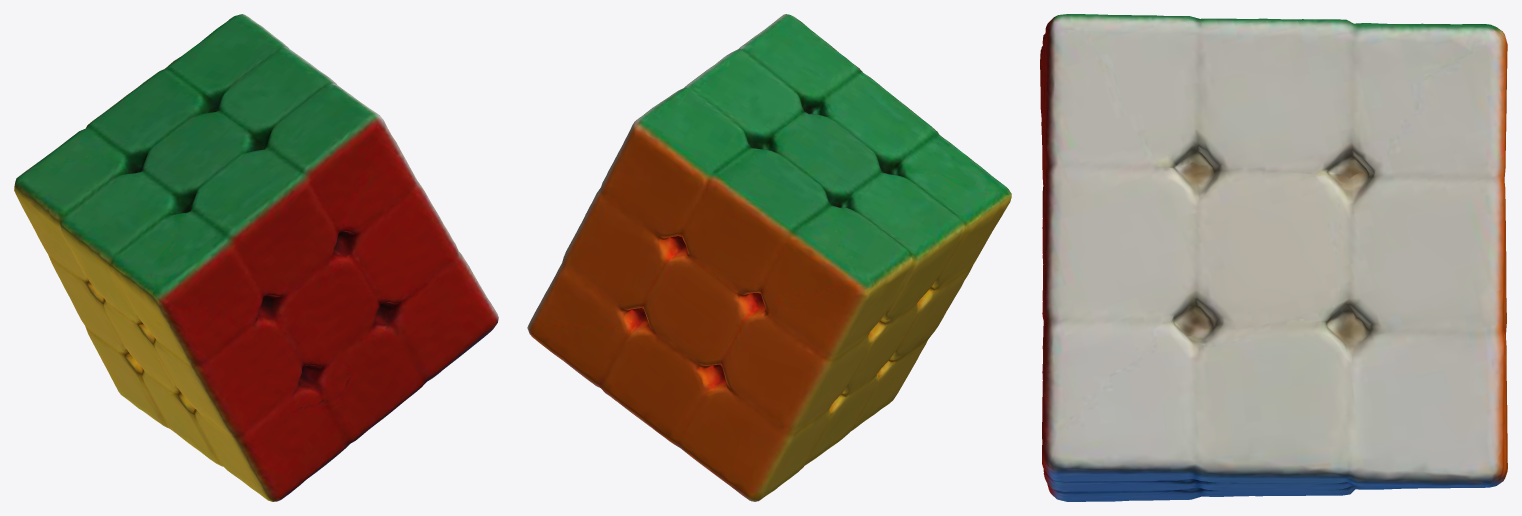
File: ddg-ycb_077_rubiks_cube.glb
3 views of the same model, side by side, from view 1: azimuth 30°, elevation 25°; view 2: azimuth 150°, elevation 25°; view 3: azimuth 270°, elevation 25° (orthographic). The views are drawn at different scales.
Visible parts, largest first — view 1: textured(Clone); view 2: textured(Clone); view 3: textured(Clone).
Part boxes in pixels (x1,y1,x2,y2): textured(Clone): [14, 14, 498, 501]; textured(Clone): [527, 14, 1011, 501]; textured(Clone): [1040, 14, 1507, 501].
Size of the model in its own units: 1.55 by 1.56 by 1.19.
Materials: 1 (1 with a texture image).
